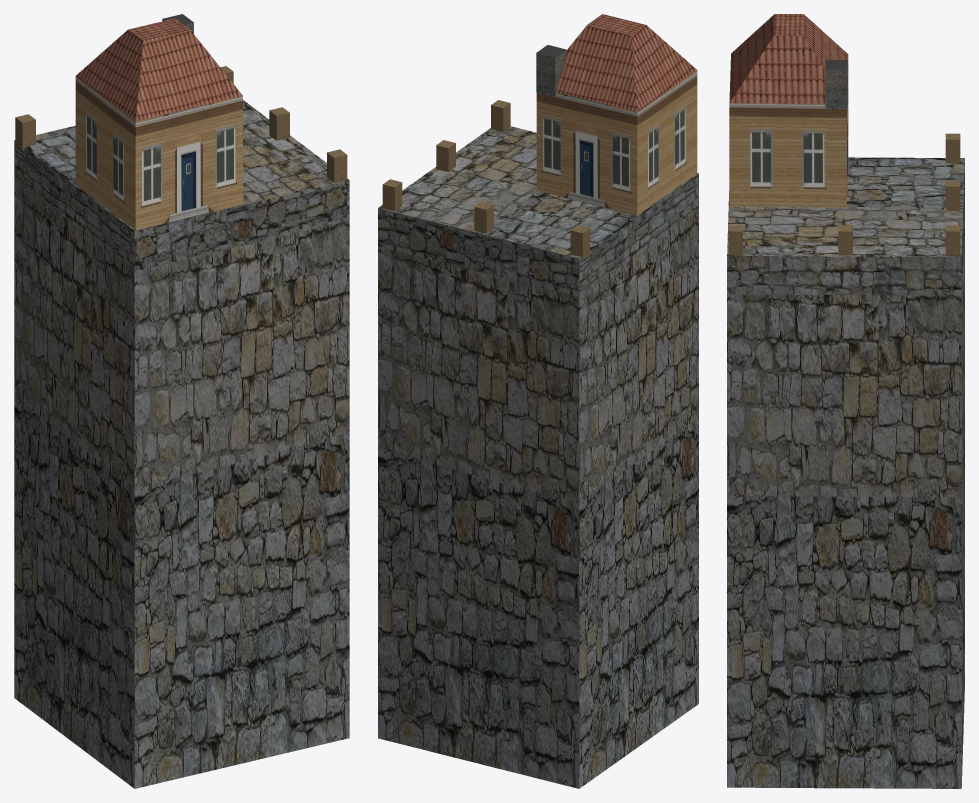
The model's file is fisherman.glb.
3 views of the same model, side by side, from view 1: azimuth 30°, elevation 25°; view 2: azimuth 150°, elevation 25°; view 3: azimuth 270°, elevation 25° (orthographic). The views are drawn at different scales.
Visible parts, largest first — view 1: Cube.028, Cube, Cube.004, Cube.006, Cube.001; view 2: Cube.028, Cube, Cube.002, Cube.004, Cube.003, Cube.005, Cube.001, Cube.006; view 3: Cube.028, Cube, Cube.002, Cube.003, Cube.005, Cube.004, Cube.006, Cube.001.
Boxes of the visible parts, bbox=[...] form: Cube.028: bbox=[14, 100, 349, 788]; Cube: bbox=[75, 18, 242, 230]; Cube.004: bbox=[15, 114, 35, 149]; Cube.006: bbox=[269, 107, 289, 140]; Cube.001: bbox=[327, 149, 347, 182]; Cube.028: bbox=[378, 126, 698, 788]; Cube: bbox=[536, 14, 697, 215]; Cube.002: bbox=[536, 45, 566, 97]; Cube.004: bbox=[570, 225, 590, 259]; Cube.003: bbox=[382, 179, 402, 211]; Cube.005: bbox=[474, 201, 493, 233]; Cube.001: bbox=[491, 100, 510, 131]; Cube.006: bbox=[436, 140, 455, 171]; Cube.028: bbox=[727, 157, 964, 788]; Cube: bbox=[729, 14, 848, 207]; Cube.002: bbox=[825, 59, 847, 109]; Cube.003: bbox=[945, 225, 960, 255]; Cube.005: bbox=[945, 180, 960, 210]; Cube.004: bbox=[945, 133, 960, 163]; Cube.006: bbox=[838, 225, 852, 255]; Cube.001: bbox=[728, 225, 742, 255].
Bounding box in the file's own units: 2.03 × 6.48 × 2.03.
16 materials, 15 textured.
